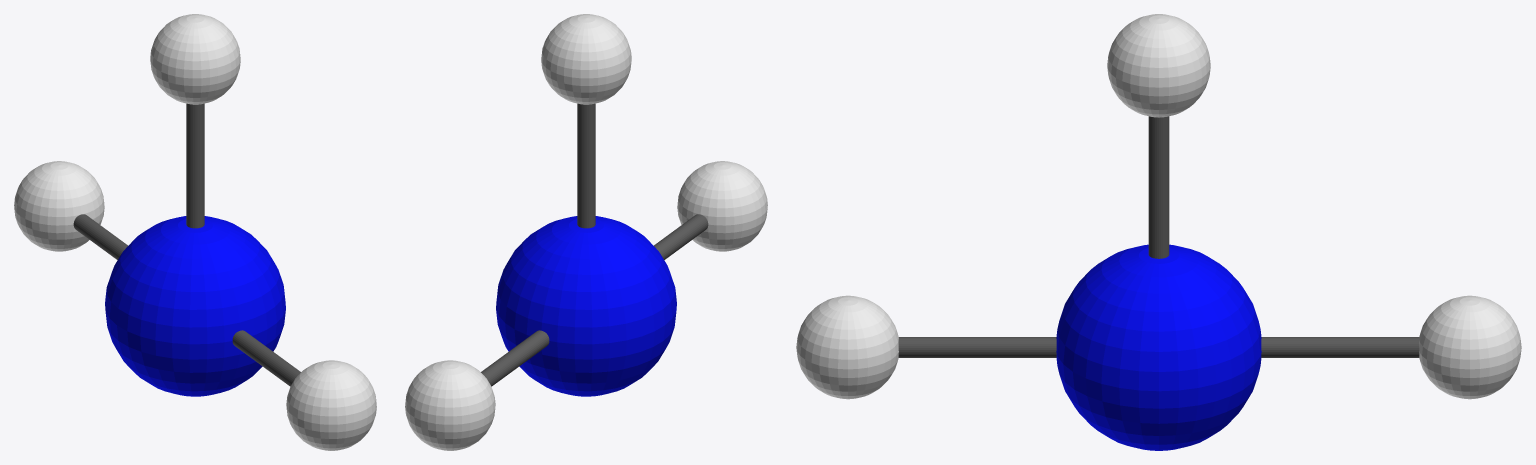
The model's file is Nitrogen.fbx.
3 views of the same model, side by side, from view 1: azimuth 30°, elevation 25°; view 2: azimuth 150°, elevation 25°; view 3: azimuth 270°, elevation 25° (orthographic). The views are drawn at different scales.
Visible parts, largest first — view 1: Sphere, H2, H4, H1, C1, C3, C2; view 2: Sphere, H1, H4, H2, C1, C2, C3; view 3: Sphere, H4, H1, H2, C2, C3, C1.
Part boxes in pixels (left/top/right/bottom): Sphere: left=105, top=216, right=285, bottom=396; H2: left=286, top=360, right=376, bottom=450; H4: left=150, top=14, right=240, bottom=104; H1: left=14, top=161, right=104, bottom=251; C1: left=186, top=103, right=204, bottom=228; C3: left=232, top=330, right=300, bottom=386; C2: left=73, top=214, right=127, bottom=259; Sphere: left=496, top=216, right=676, bottom=396; H1: left=405, top=360, right=495, bottom=450; H4: left=541, top=14, right=631, bottom=104; H2: left=677, top=161, right=767, bottom=251; C1: left=577, top=103, right=595, bottom=228; C2: left=481, top=330, right=549, bottom=386; C3: left=654, top=214, right=708, bottom=259; Sphere: left=1056, top=244, right=1261, bottom=450; H4: left=1107, top=14, right=1210, bottom=117; H1: left=1419, top=295, right=1521, bottom=399; H2: left=796, top=295, right=898, bottom=399; C2: left=1261, top=337, right=1419, bottom=357; C3: left=898, top=337, right=1056, bottom=357; C1: left=1148, top=116, right=1169, bottom=258.
Bounding box in the file's own units: 20 × 45 × 70.
